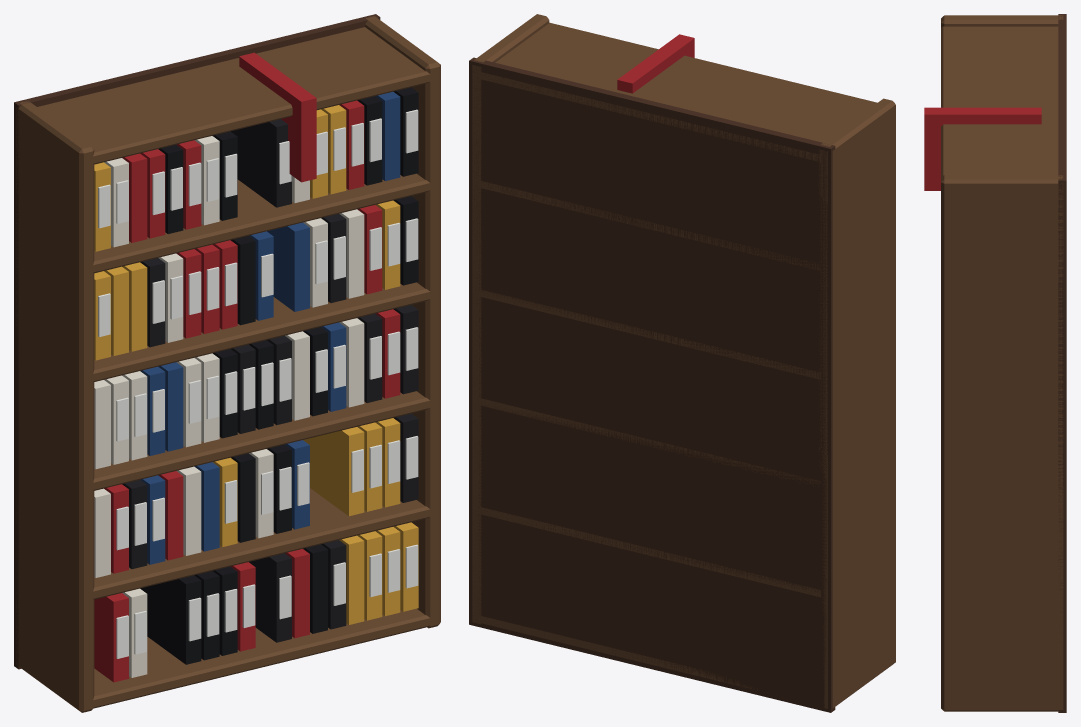
File: vhs_rack.glb
The picture shows the model from 3 angles, left to right: view 1: azimuth 30°, elevation 25°; view 2: azimuth 150°, elevation 25°; view 3: azimuth 270°, elevation 25°; orthographic projection. The views are drawn at different scales.
Parts seen in each view (by area): view 1: vhs_rack; view 2: vhs_rack; view 3: vhs_rack.
Part boxes in pixels (box(x1,y1,x2,y2)): vhs_rack: box(14, 14, 440, 712); vhs_rack: box(469, 14, 895, 712); vhs_rack: box(924, 14, 1066, 712).
Bounding box in the file's own units: 0.94 × 1.41 × 0.34.
